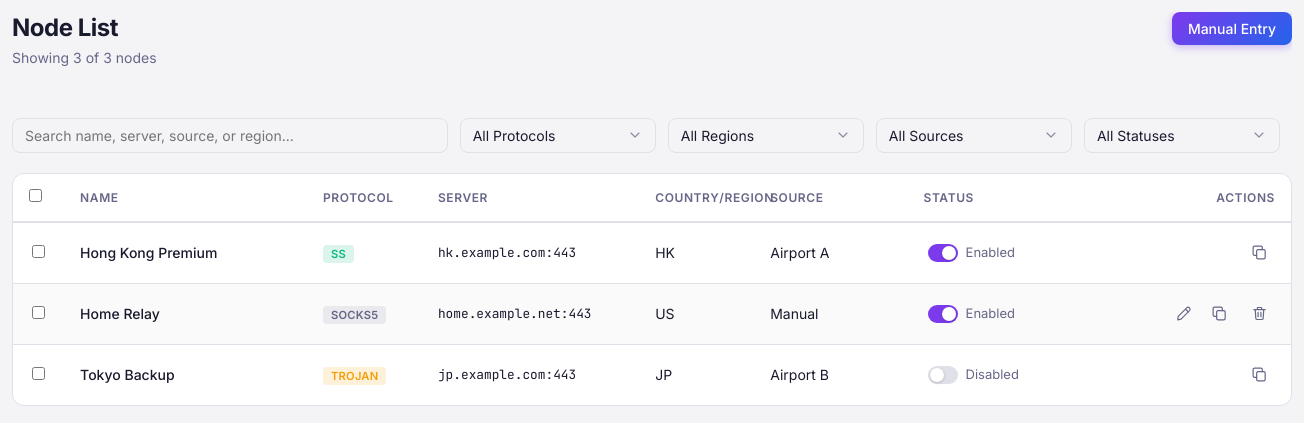
Test: Nodes filters › combines source and status filters and can restore the full list
The image size is (1304, 423).
Expected: the text "Showing 3 of 3 nodes" is shown, x1=12 y1=49 x2=156 y2=66
Step 1. Select "Airport B" in the dropdown named "Source" → (974, 135), box x1=876 y1=118 x2=1072 y2=153
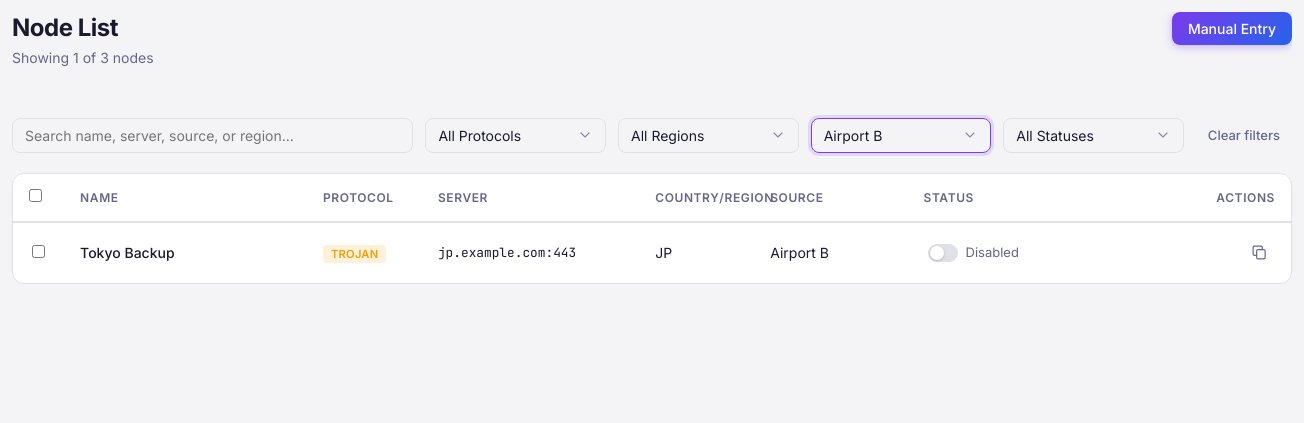
Step 2. Select "Disabled" in the dropdown named "Status" → (1094, 135), box x1=1003 y1=118 x2=1184 y2=153
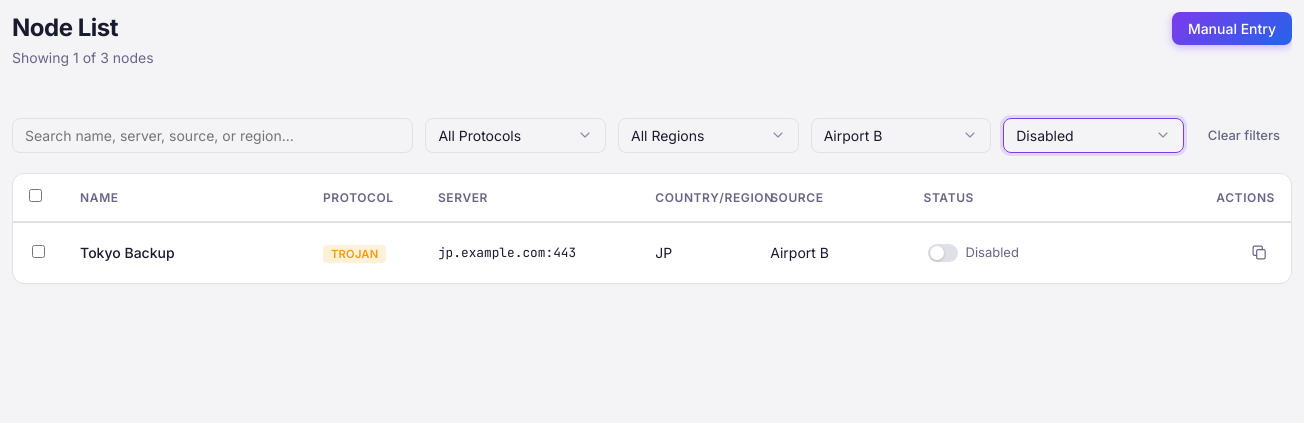
Expected: the text "Tokyo Backup" is shown, x1=64 y1=222 x2=307 y2=283
Result: the text "Showing 1 of 3 nodes" is shown at x1=12 y1=49 x2=154 y2=66
Step 3. Click the button "Clear filters" → click(1244, 135), box x1=1196 y1=121 x2=1292 y2=149
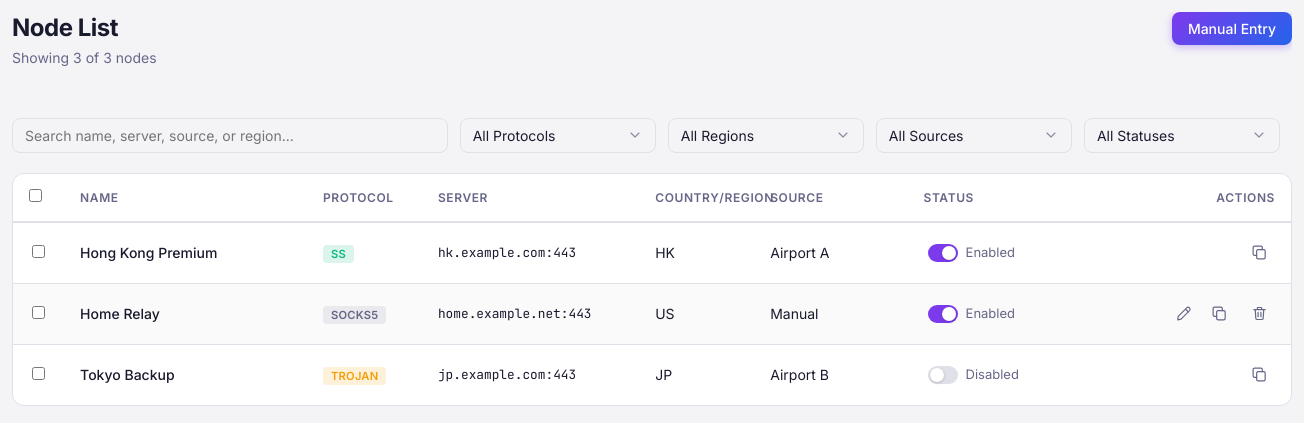
Result: the text "Hong Kong Premium" is shown at x1=64 y1=222 x2=307 y2=283
Result: the text "Home Relay" is shown at x1=64 y1=283 x2=307 y2=344
Result: the text "Showing 3 of 3 nodes" is shown at x1=12 y1=49 x2=156 y2=66
